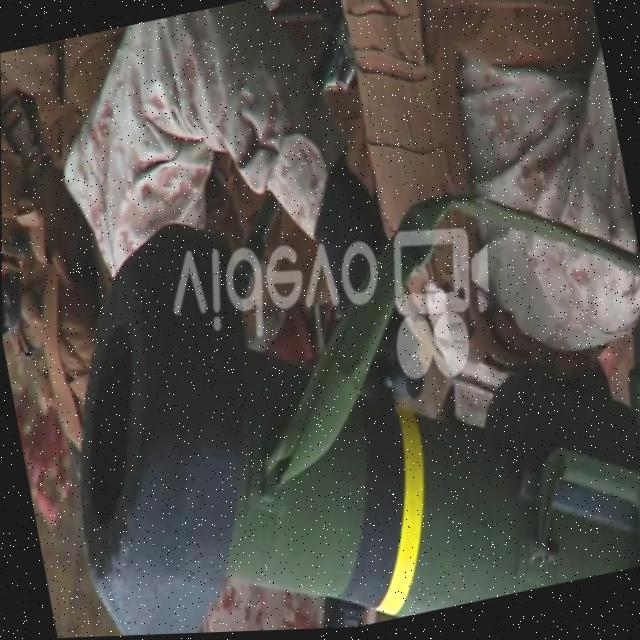rocket: (8, 129, 640, 640)
